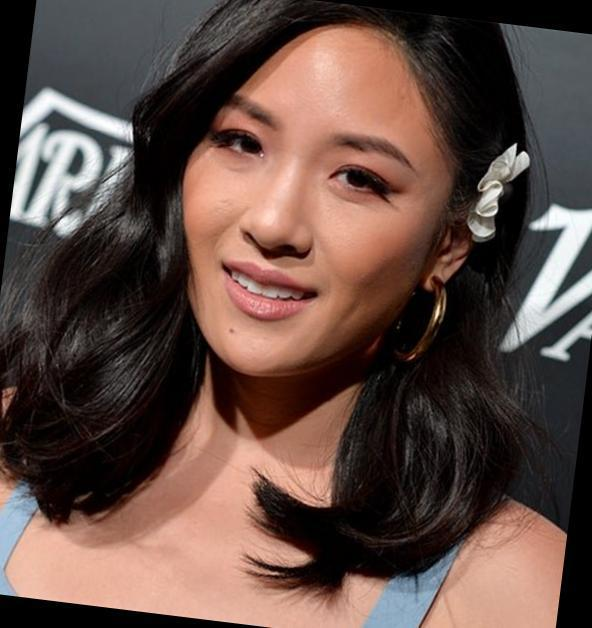Sober: (185, 36, 446, 380)
